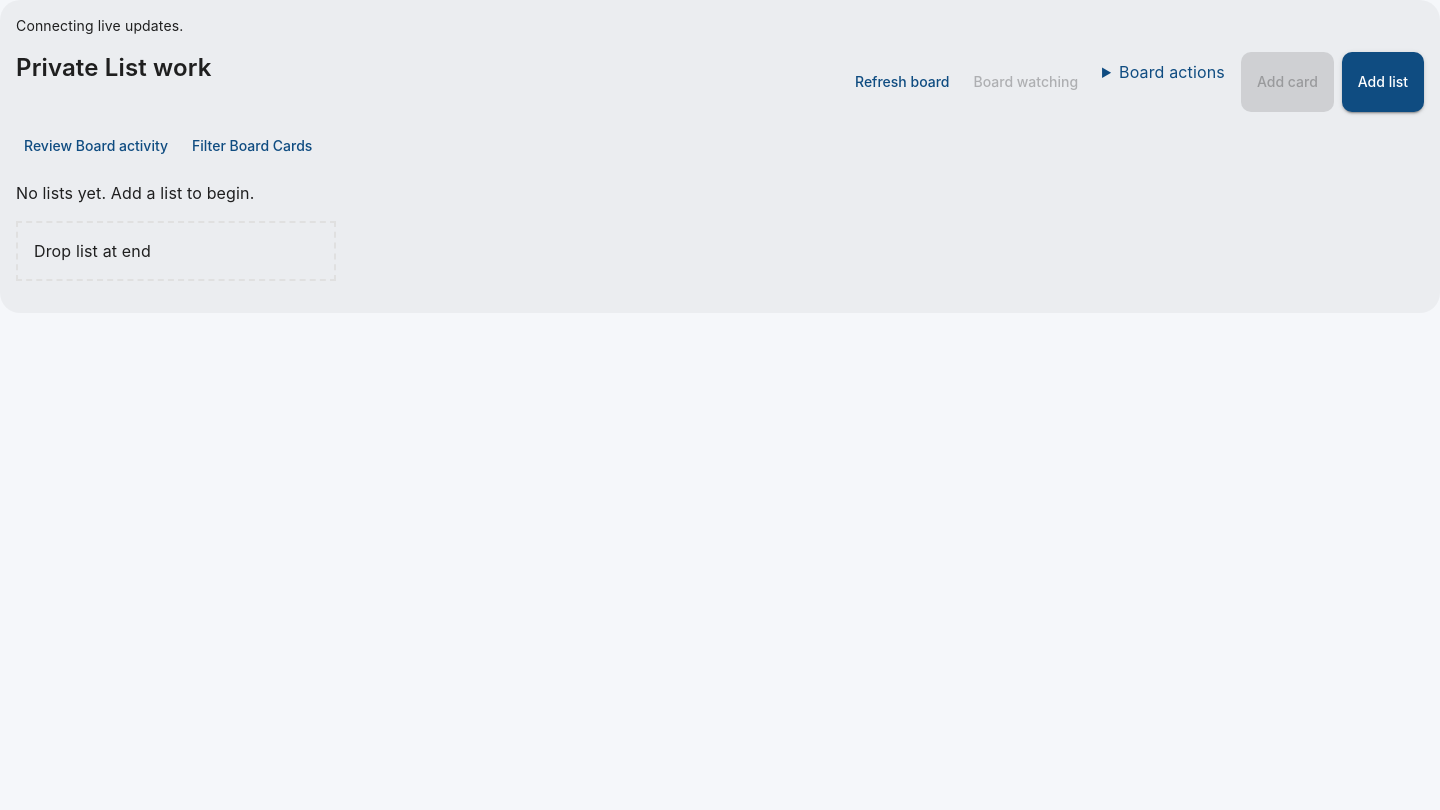
Scenario: PRD-07-VS-05 List creation identity › retains original actor/key/body on retry and focuses safe feedback after refusal
Click the button "Add list" at (1383, 82), box [1342,52,1424,112]
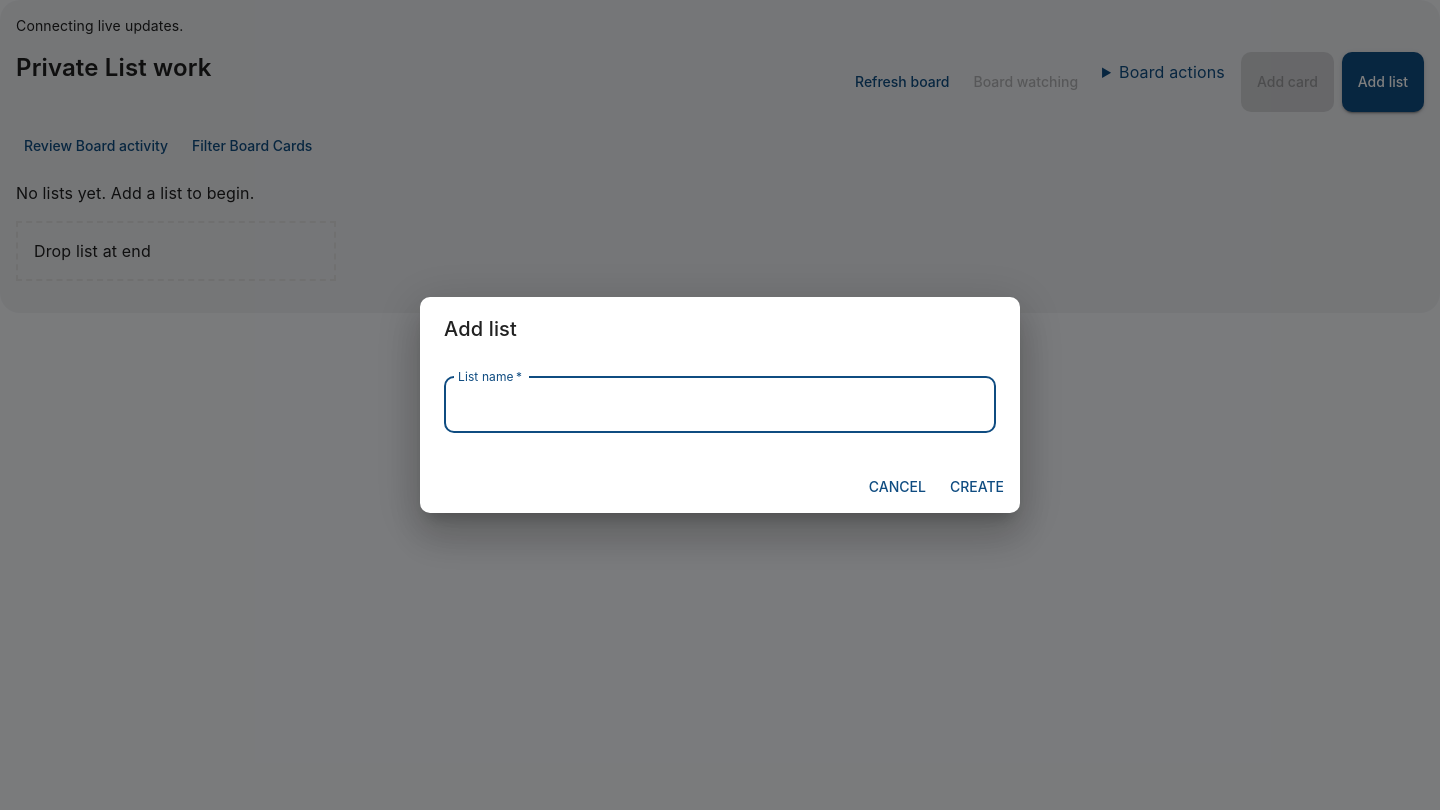
Type "Original List draft" into the field labelled "List name *" at (720, 405), box [444,377,996,433]
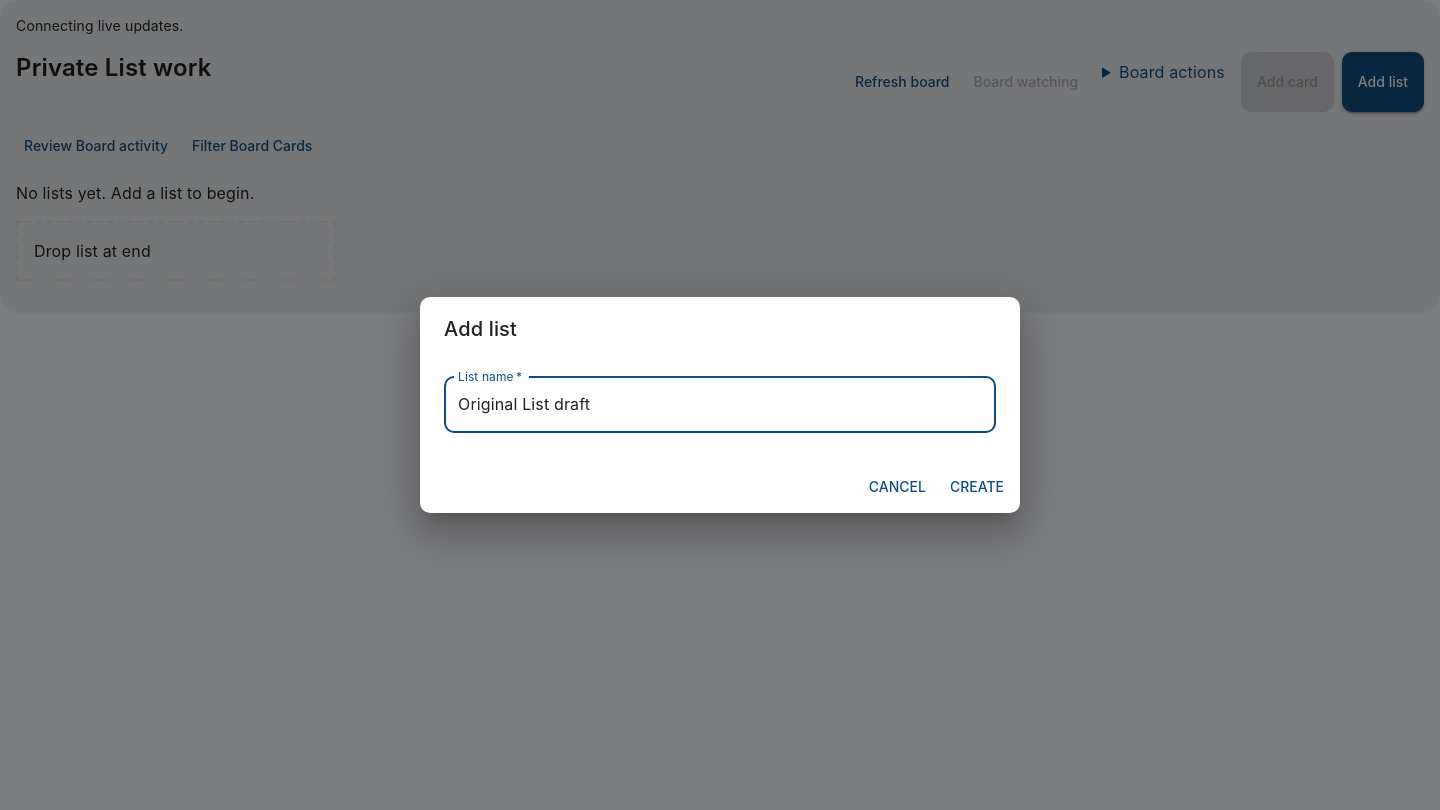
Click the button "Create" at (977, 487), box [942,469,1012,505]
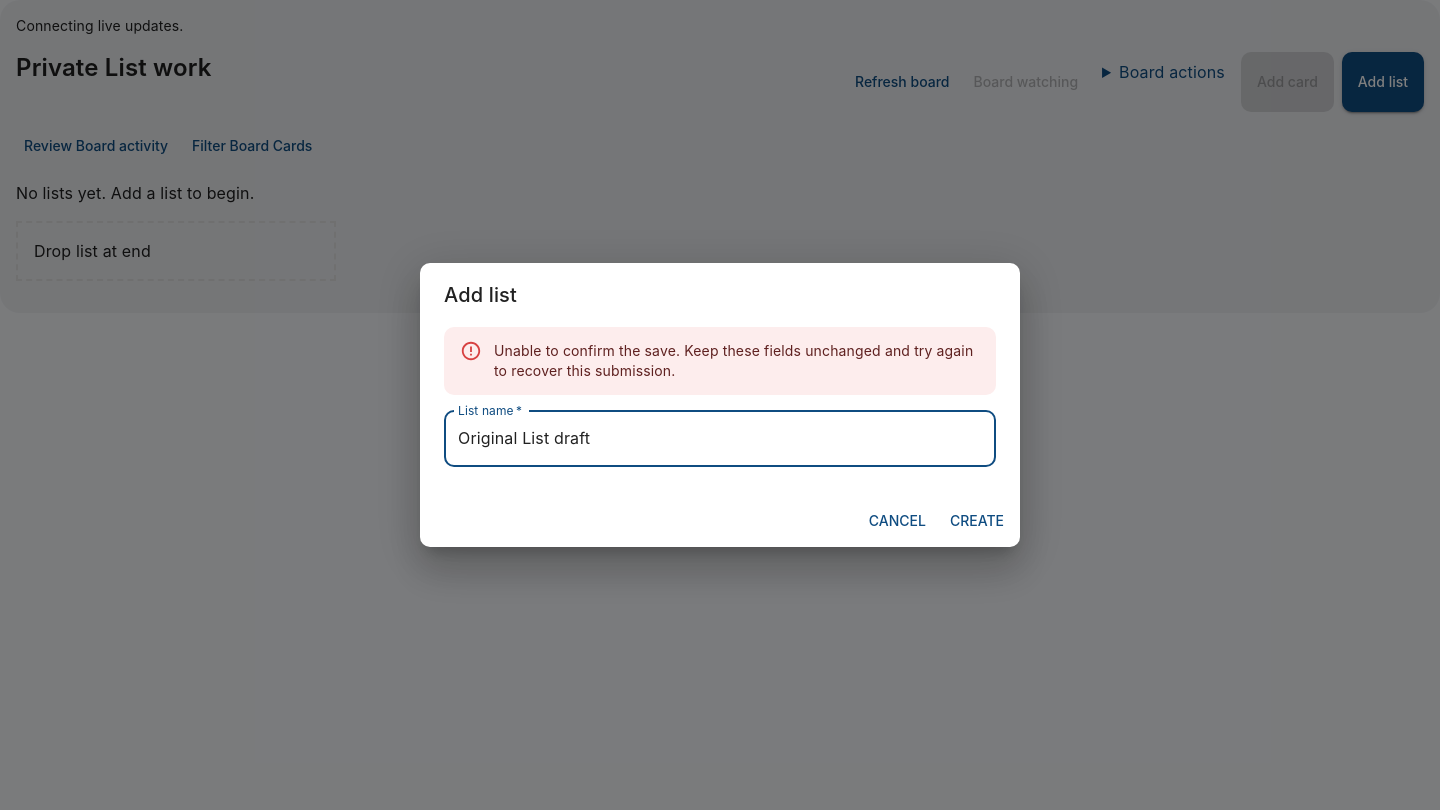
Expected: the message shows "Unable to confirm the save", [494,342,973,379]
Click the button "Create" at (977, 521), box [942,503,1012,539]
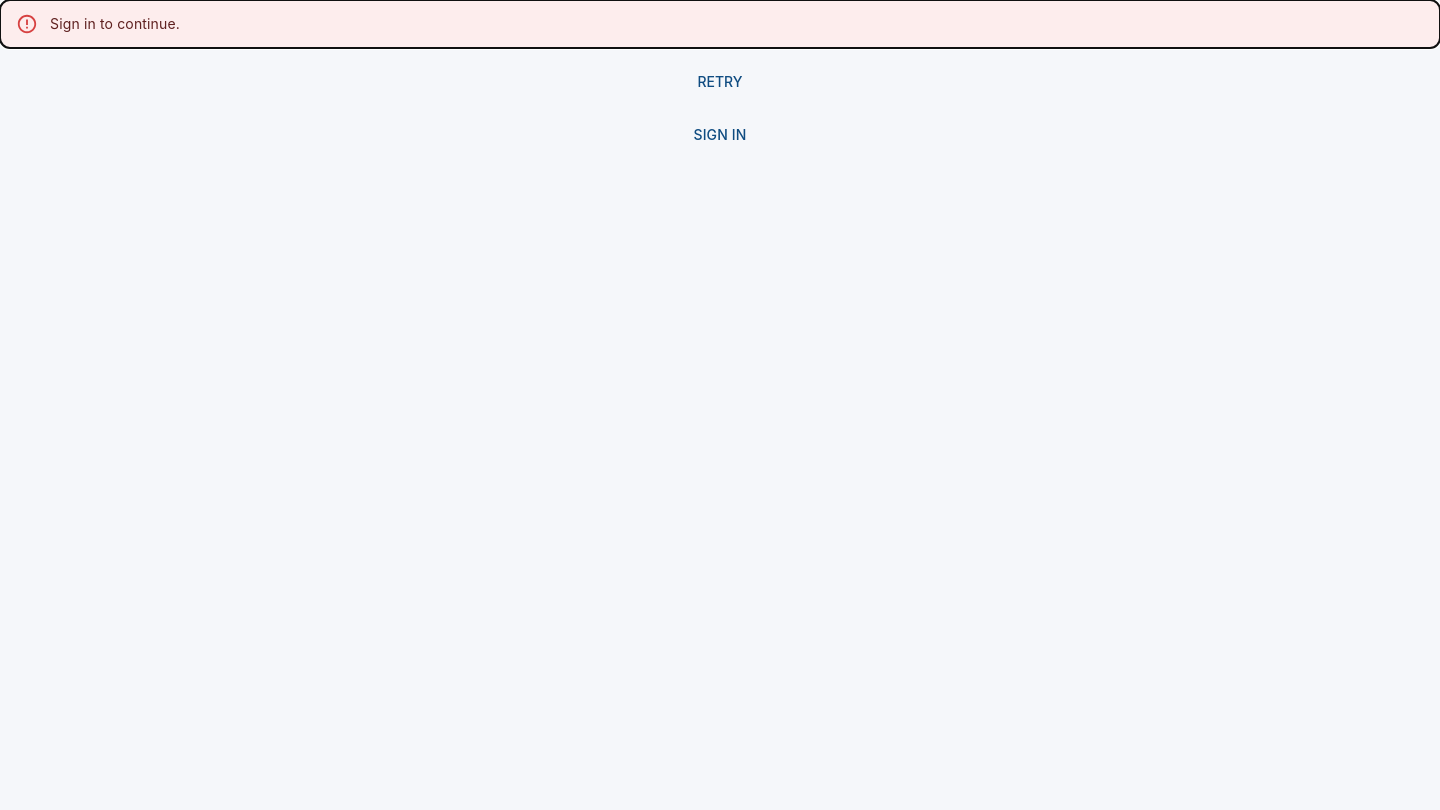
Expected: the label labelled "List name" is gone
Expected: the heading "Private List work" is gone
